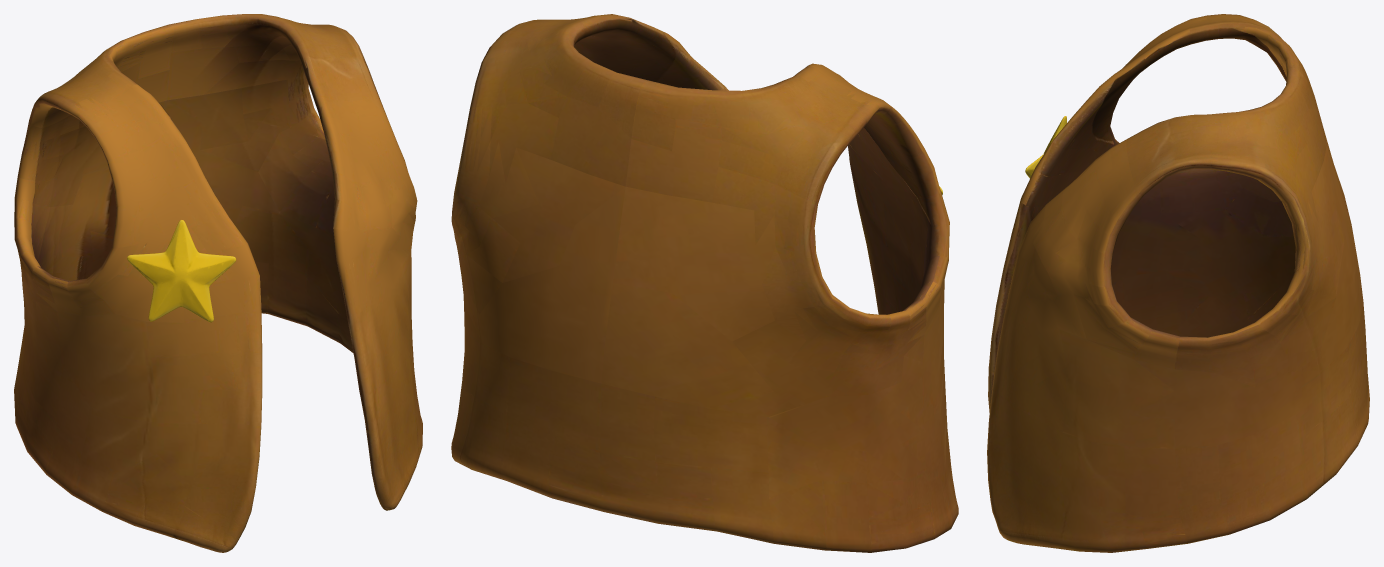
The model's file is Cowboy-Vest.glb.
3 renders of one model, left to right at view 1: azimuth 30°, elevation 25°; view 2: azimuth 150°, elevation 25°; view 3: azimuth 270°, elevation 25°, orthographic. The views are drawn at different scales.
Parts seen in each view (by area): view 1: Cowboy-Vest; view 2: Cowboy-Vest; view 3: Cowboy-Vest.
Boxes of the visible parts, left/top/right/bottom form: Cowboy-Vest: left=14, top=14, right=422, bottom=552; Cowboy-Vest: left=451, top=14, right=958, bottom=552; Cowboy-Vest: left=987, top=14, right=1369, bottom=552.
Bounding box in the file's own units: 0.3722 × 0.4063 × 0.3284.
Materials: 2 (2 with a texture image).
